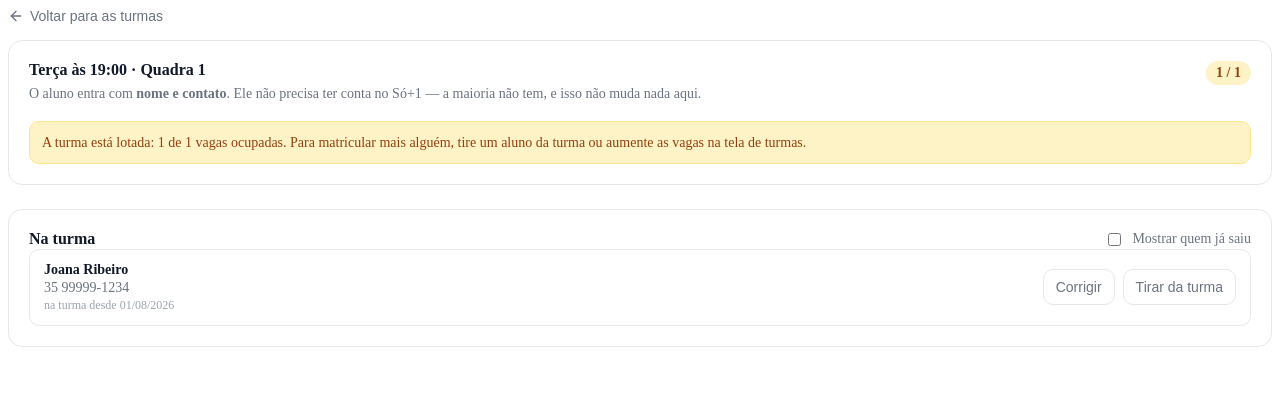
Test: OwnerAlunos › corrigir › corrigir funciona mesmo com a turma lotada — não é matricular
Click the button "Corrigir".
click(1079, 287)  # box x1=1043 y1=269 x2=1115 y2=305
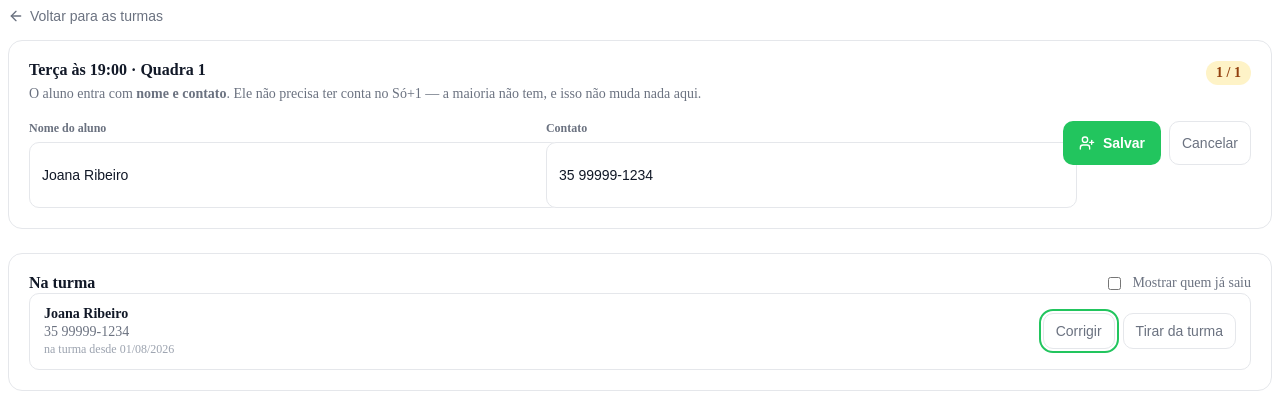
Check: the field labelled "Nome do aluno" holds "Joana Ribeiro", box x1=29 y1=142 x2=560 y2=208
Check: the button "Salvar" is shown, box x1=1063 y1=121 x2=1161 y2=165
